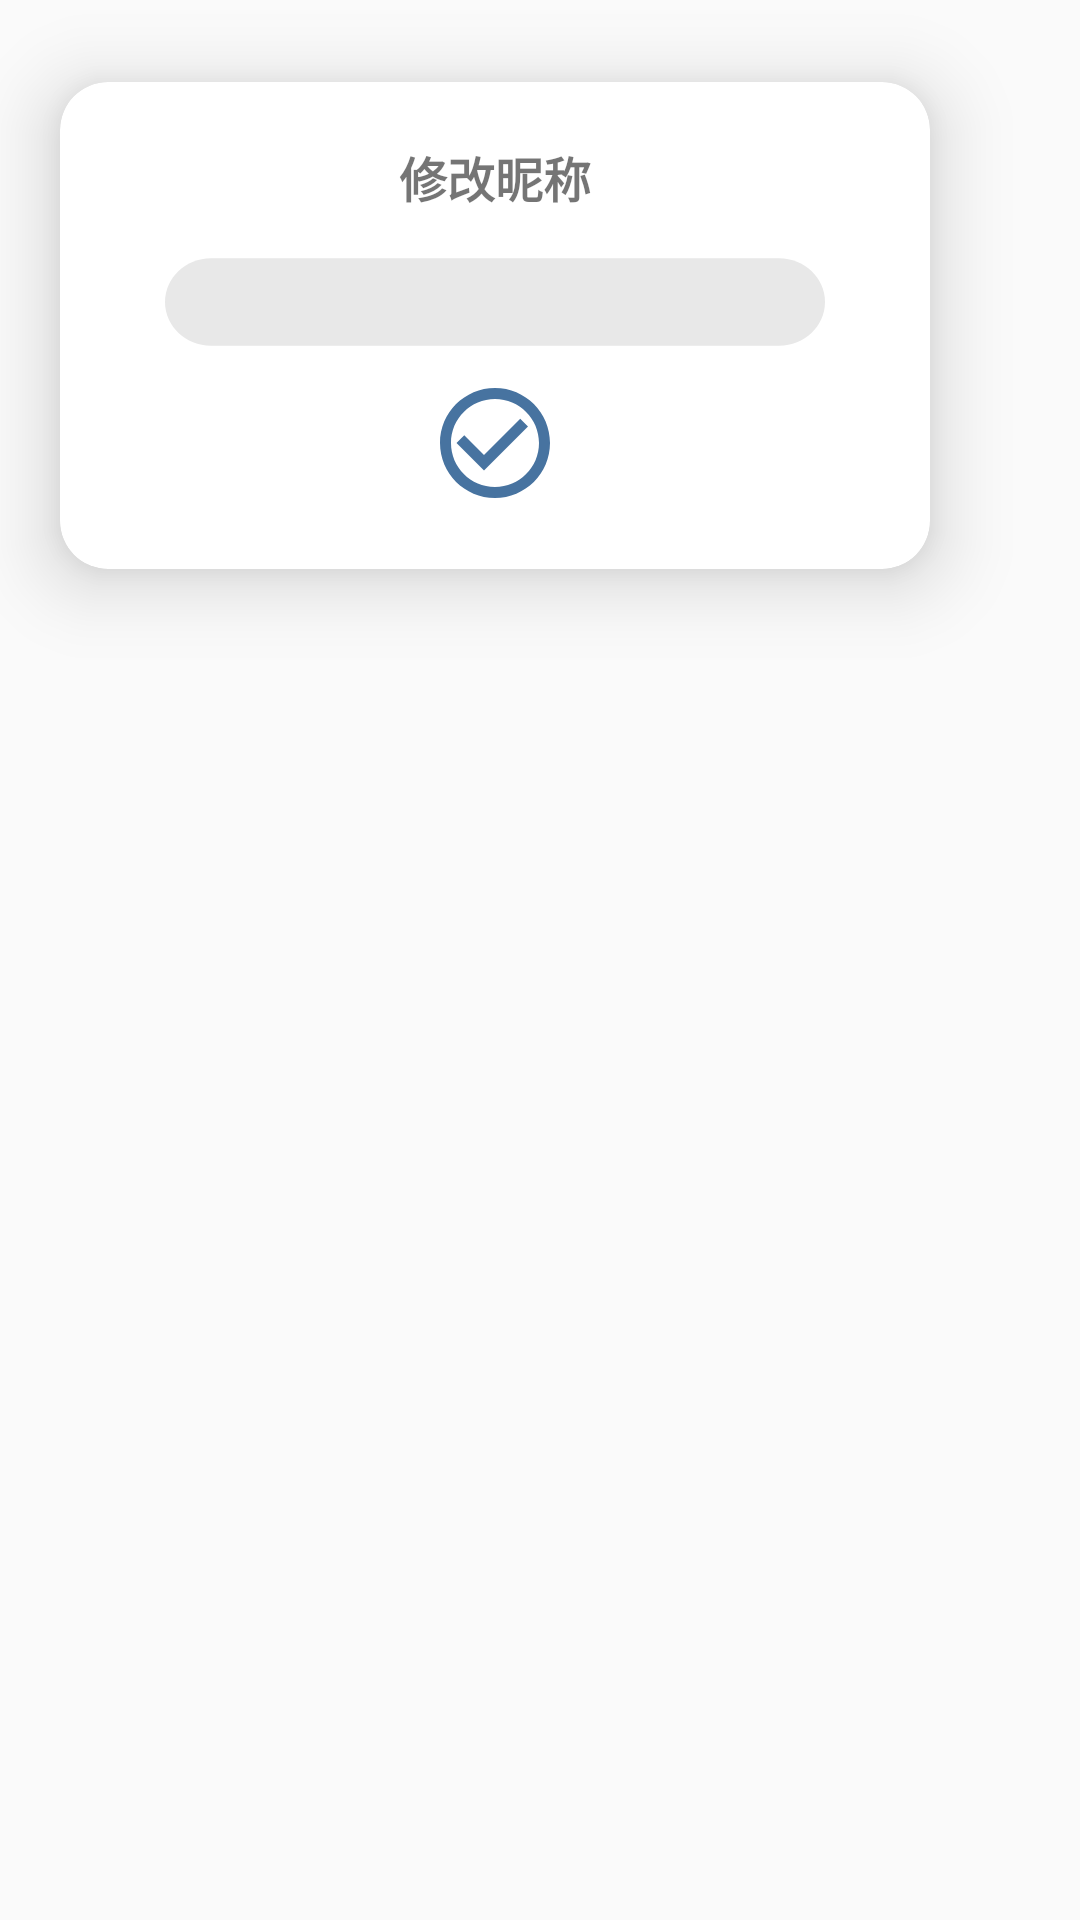

Locate icon controls on the screen. Image size 1080 × 1920, boxes as {"x1": x1, "y1": y1, "x2": x2, "y2": y2}.
check circle: {"x1": 440, "y1": 388, "x2": 550, "y2": 498}
